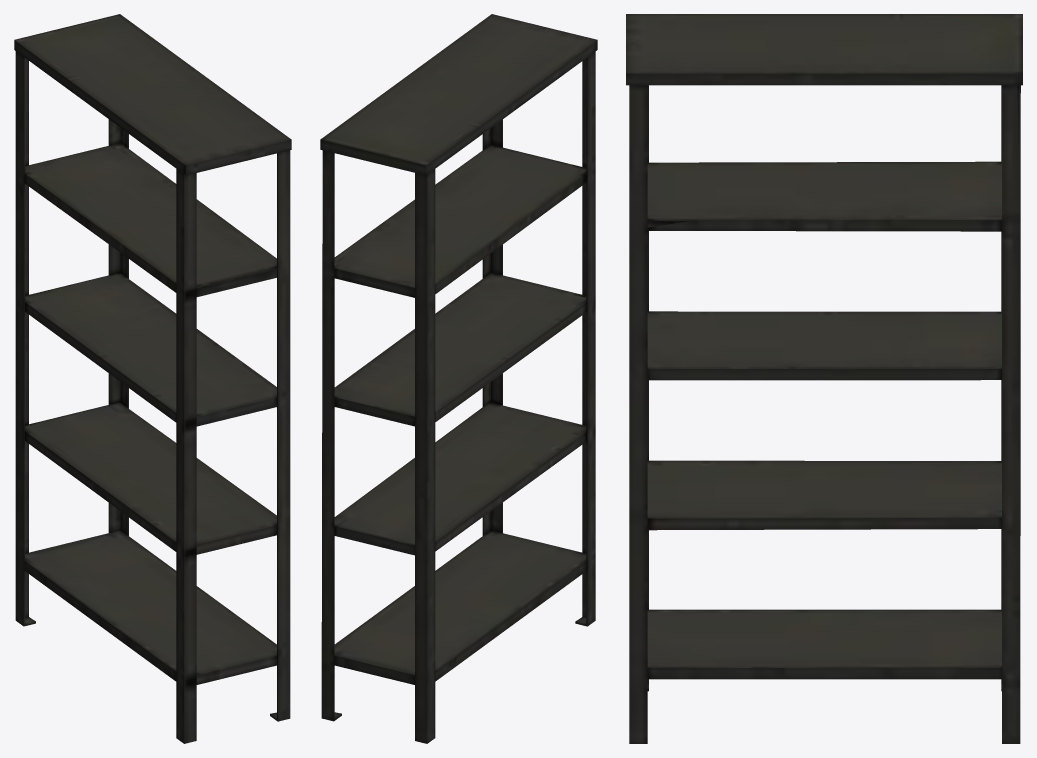
The model's file is shelf.glb.
3 renders of one model, left to right at view 1: azimuth 30°, elevation 25°; view 2: azimuth 150°, elevation 25°; view 3: azimuth 270°, elevation 25°, orthographic. The views are drawn at different scales.
Visible parts, largest first — view 1: holder; view 2: holder; view 3: holder.
Part boxes in pixels (x1,y1,x2,y2): holder: [14, 14, 291, 743]; holder: [320, 14, 597, 743]; holder: [626, 14, 1022, 743].
Bounding box in the file's own units: 0.3818 × 2 × 1.07.
Materials: 1 (1 with a texture image).
